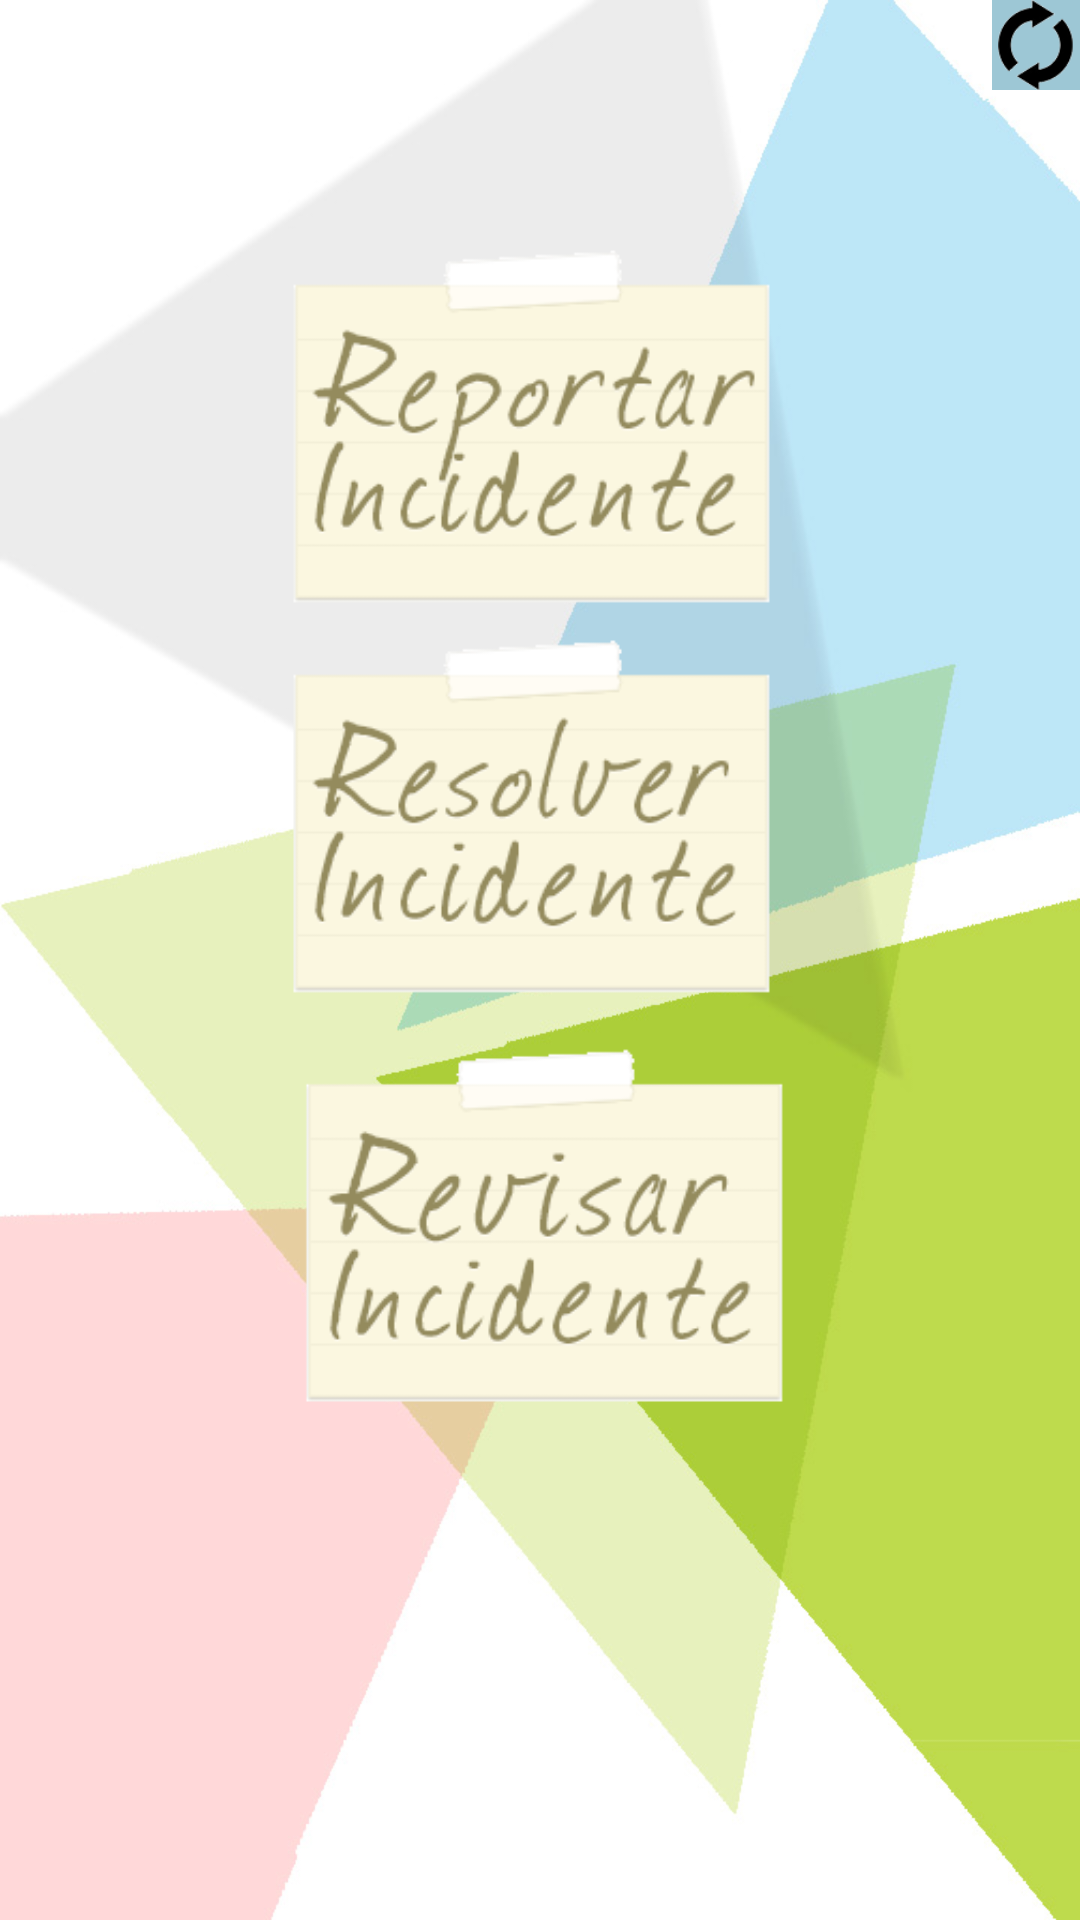

Point at icon controls on the screen. Image size 1080px×1920px, points as point (x, y).
sincronizar: point (1036, 45)
